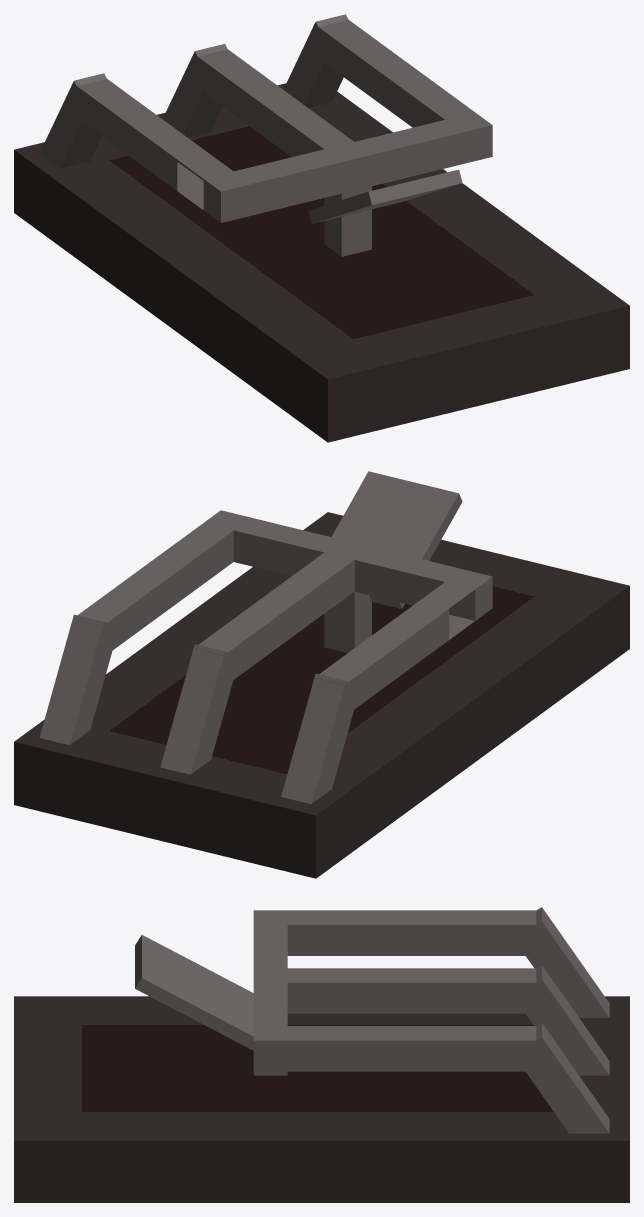
Rendered from Ratueira.gltf.
3 renders of one model, top to bottom at view 1: azimuth 30°, elevation 25°; view 2: azimuth 150°, elevation 25°; view 3: azimuth 270°, elevation 25°, orthographic.
Visible parts, largest first — view 1: cube (×10); view 2: cube (×10); view 3: cube (×9).
Boxes of the visible parts, bbox=[...] form: cube (×10): bbox=[14, 14, 629, 442]; cube (×10): bbox=[14, 471, 629, 878]; cube (×9): bbox=[14, 907, 629, 1202].
Bounding box in the file's own units: 0.3125 × 0.1755 × 0.5625.
2 materials, 2 textured.
